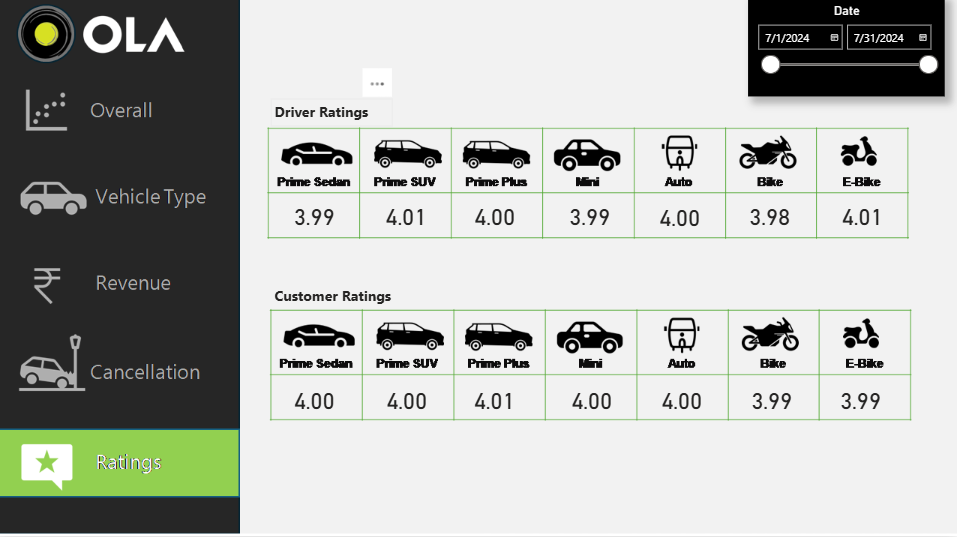

The page's visual inventory and layout, read from the dashboard file:
{"tool":"powerbi","page":{"name":"Ratings","canvas":[1280,720],"ordinal":4},"visuals":[{"type":"actionButton","box":[0,218,326,90],"z":0},{"type":"actionButton","box":[0,218,326,90],"z":1000},{"type":"actionButton","box":[0,336,326,90],"z":2000},{"type":"actionButton","box":[0,448,326,90],"z":3000},{"type":"actionButton","box":[0,110,326,90],"z":4000},{"type":"card","fields":{"Values":["Avg(July.Driver_Ratings)"]},"box":[364.4,263.3,116.7,60],"z":5000},{"type":"card","fields":{"Values":["Avg(July.Driver_Ratings)"]},"box":[490,263.3,111.1,60],"z":6000},{"type":"card","fields":{"Values":["Avg(July.Driver_Ratings)"]},"box":[608.9,262.2,111.1,62.2],"z":7000},{"type":"card","fields":{"Values":["Avg(July.Driver_Ratings)"]},"box":[734.4,262.2,111.1,62.2],"z":8000},{"type":"card","fields":{"Values":["Avg(July.Driver_Ratings)"]},"box":[854.4,263.3,111.1,62.2],"z":9000},{"type":"card","fields":{"Values":["Avg(July.Driver_Ratings)"]},"box":[974.4,261.1,111.1,62.2],"z":10000},{"type":"card","fields":{"Values":["Avg(July.Driver_Ratings)"]},"box":[1097.8,261.1,111.1,62.2],"z":11000},{"type":"textbox","box":[364.4,136.7,163.3,36.7],"z":12000},{"type":"textbox","box":[364.4,381.1,194.4,36.7],"z":13000},{"type":"card","fields":{"Values":["Avg(July.Customer_Rating)"]},"box":[365.6,507.8,116.7,60],"z":14000},{"type":"card","fields":{"Values":["Avg(July.Customer_Rating)"]},"box":[487.8,507.8,116.7,60],"z":15000},{"type":"card","fields":{"Values":["Avg(July.Customer_Rating)"]},"box":[605.6,507.8,116.7,60],"z":16000},{"type":"card","fields":{"Values":["Avg(July.Customer_Rating)"]},"box":[734.4,507.8,116.7,60],"z":17000},{"type":"card","fields":{"Values":["Avg(July.Customer_Rating)"]},"box":[854.4,507.8,116.7,60],"z":18000},{"type":"card","fields":{"Values":["Avg(July.Customer_Rating)"]},"box":[974.4,507.8,116.7,60],"z":19000},{"type":"card","fields":{"Values":["Avg(July.Customer_Rating)"]},"box":[1093.3,508.3,116.7,60],"z":20000},{"type":"slicer","title":"Date","fields":{"Values":["July.Date"]},"box":[1001.7,0,261.7,133.3],"z":21000}]}

Visuals, with their boxes on the page's 1280x720 design canvas (x1, y1, x2, y2). These are canvas units, not pixel positions in the 957x537 screenshot, which may show the page scaled, cropped or inside an application window:
actionButton: BBox(0, 218, 326, 308)
actionButton: BBox(0, 218, 326, 308)
actionButton: BBox(0, 336, 326, 426)
actionButton: BBox(0, 448, 326, 538)
actionButton: BBox(0, 110, 326, 200)
card - Avg(July.Driver_Ratings): BBox(364, 263, 481, 323)
card - Avg(July.Driver_Ratings): BBox(490, 263, 601, 323)
card - Avg(July.Driver_Ratings): BBox(609, 262, 720, 324)
card - Avg(July.Driver_Ratings): BBox(734, 262, 846, 324)
card - Avg(July.Driver_Ratings): BBox(854, 263, 966, 326)
card - Avg(July.Driver_Ratings): BBox(974, 261, 1086, 323)
card - Avg(July.Driver_Ratings): BBox(1098, 261, 1209, 323)
textbox: BBox(364, 137, 528, 173)
textbox: BBox(364, 381, 559, 418)
card - Avg(July.Customer_Rating): BBox(366, 508, 482, 568)
card - Avg(July.Customer_Rating): BBox(488, 508, 604, 568)
card - Avg(July.Customer_Rating): BBox(606, 508, 722, 568)
card - Avg(July.Customer_Rating): BBox(734, 508, 851, 568)
card - Avg(July.Customer_Rating): BBox(854, 508, 971, 568)
card - Avg(July.Customer_Rating): BBox(974, 508, 1091, 568)
card - Avg(July.Customer_Rating): BBox(1093, 508, 1210, 568)
"Date" slicer: BBox(1002, 0, 1263, 133)
